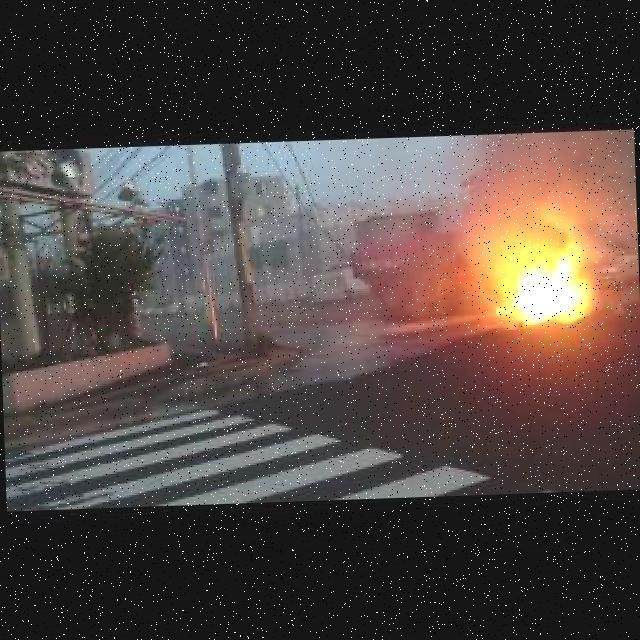Fire: (492, 252, 598, 328)
Smoke: (480, 127, 636, 260)
